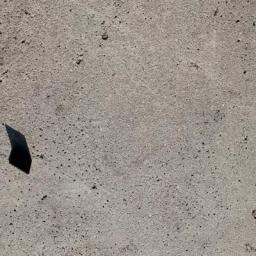FOD: (1, 119, 38, 177)
